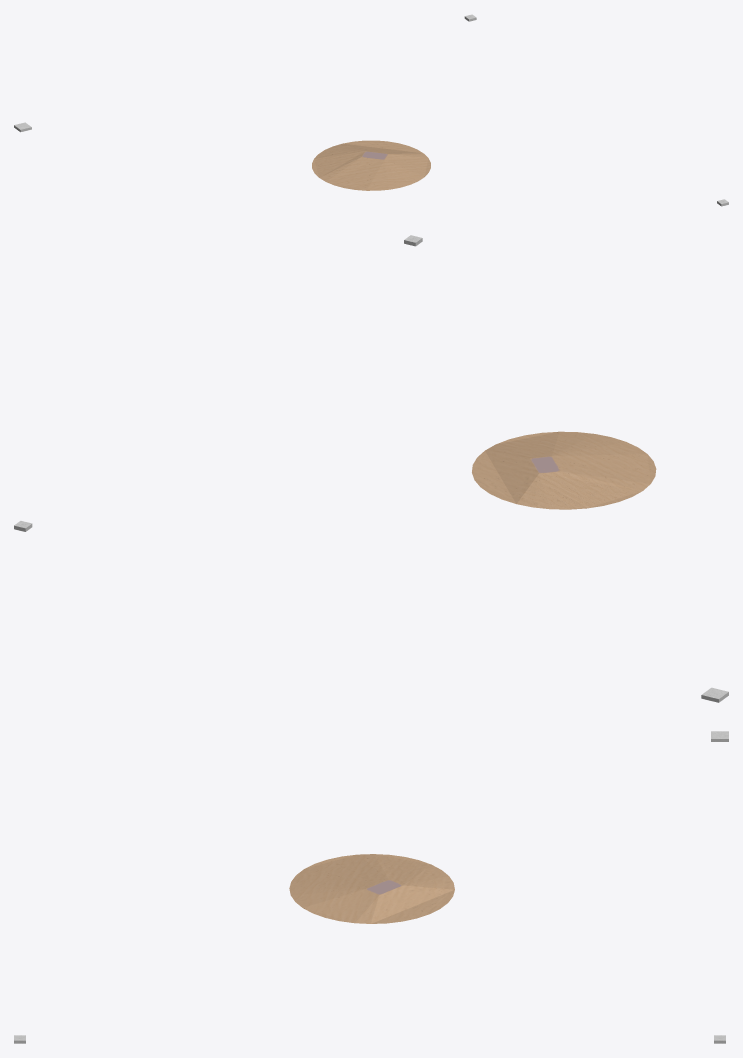
Rendered from PisoBase.obj.
The picture shows the model from 3 angles, top to bottom: view 1: azimuth 30°, elevation 25°; view 2: azimuth 150°, elevation 25°; view 3: azimuth 270°, elevation 25°; orthographic projection. The views are drawn at different scales.
Parts seen in each view (by area): view 1: Plane.001; view 2: Plane.001; view 3: Plane.001.
Boxes of the visible parts, x1,y1,x2,y2 form: Plane.001: (312,140,430,190); Plane.001: (472,431,656,509); Plane.001: (289,854,454,923).
Size of what is drawn, in the model's own units: 24.25 by 0.264 by 23.69.
Materials: 2 (2 with a texture image).
